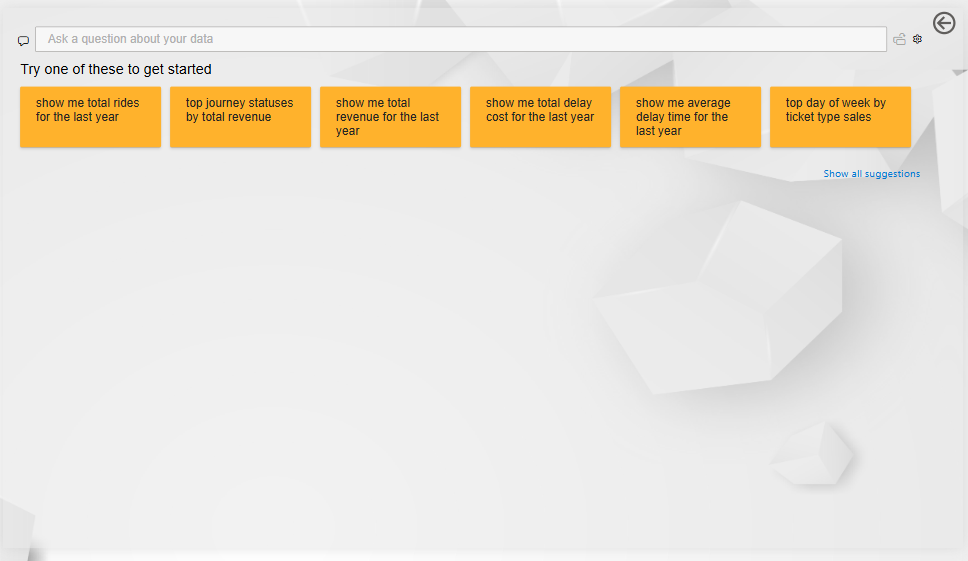

This screenshot's page, from the dashboard's own definition file:
{"tool":"powerbi","page":{"name":"Q & A","canvas":[1280,720],"ordinal":8},"visuals":[{"type":"qnaVisual","box":[9.8,0,1226,720.1],"z":0},{"type":"actionButton","box":[1235.8,0,44.2,40.3],"z":1000}]}

Visuals, with their boxes on the page's 1280x720 design canvas (x1, y1, x2, y2). These are canvas units, not pixel positions in the 968x561 screenshot, which may show the page scaled, cropped or inside an application window:
qnaVisual: 10,0,1236,720
actionButton: 1236,0,1280,40
